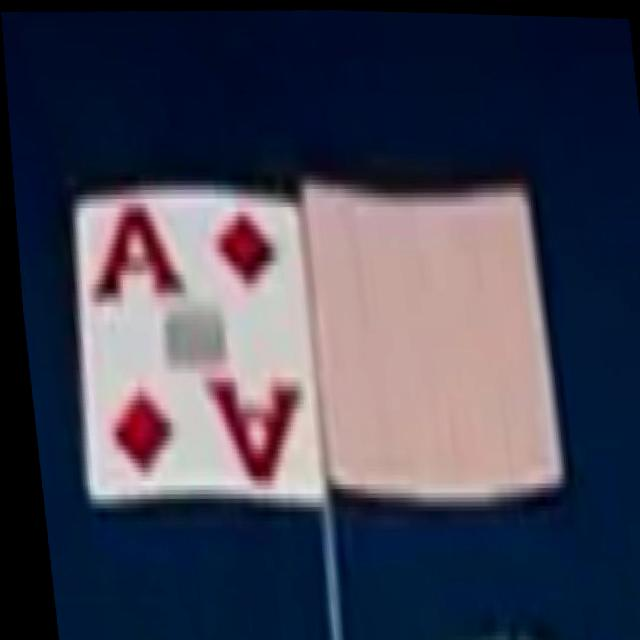Card-A: (72, 194, 316, 507)
